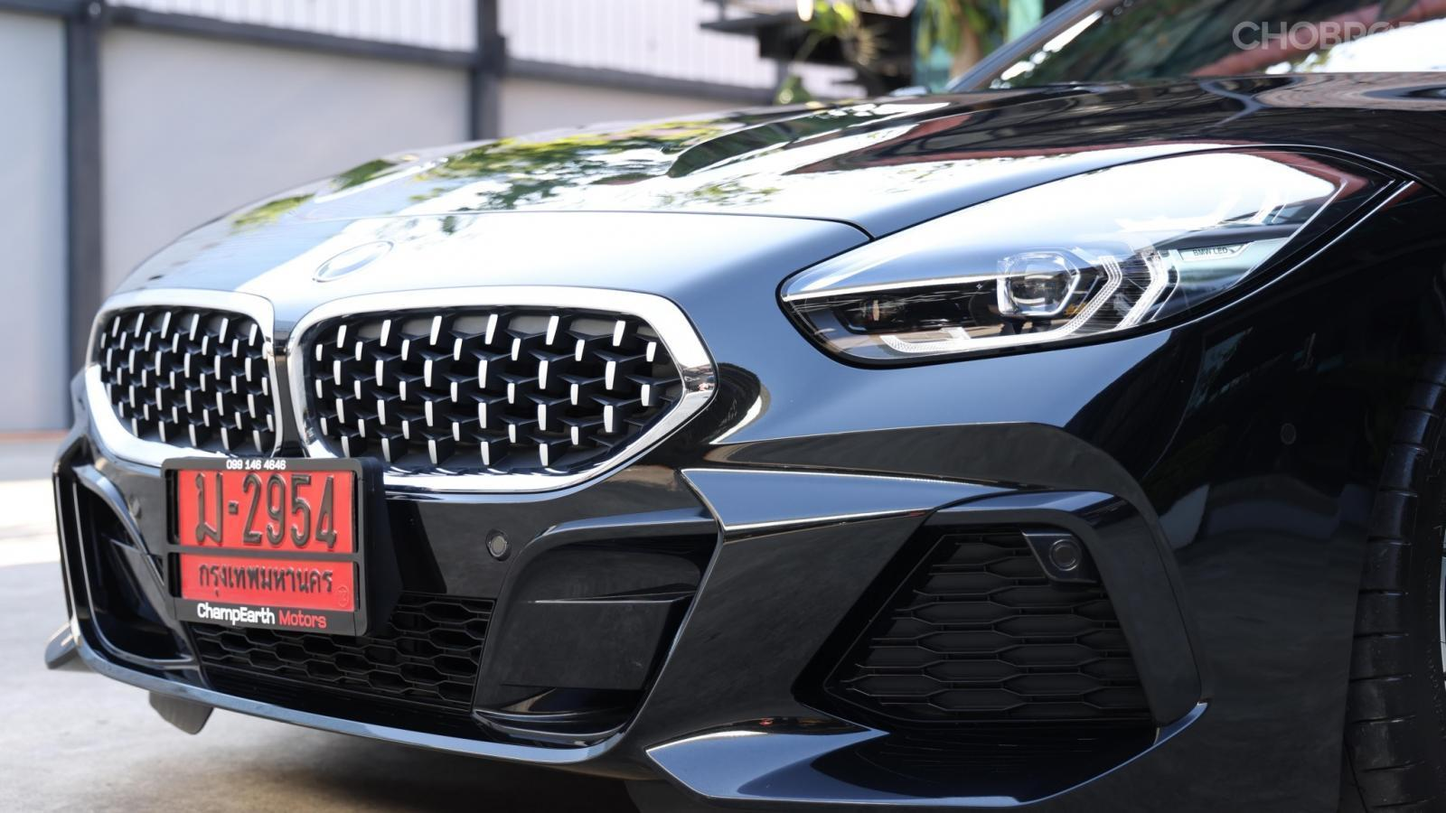license-plate: (135, 446, 410, 652)
